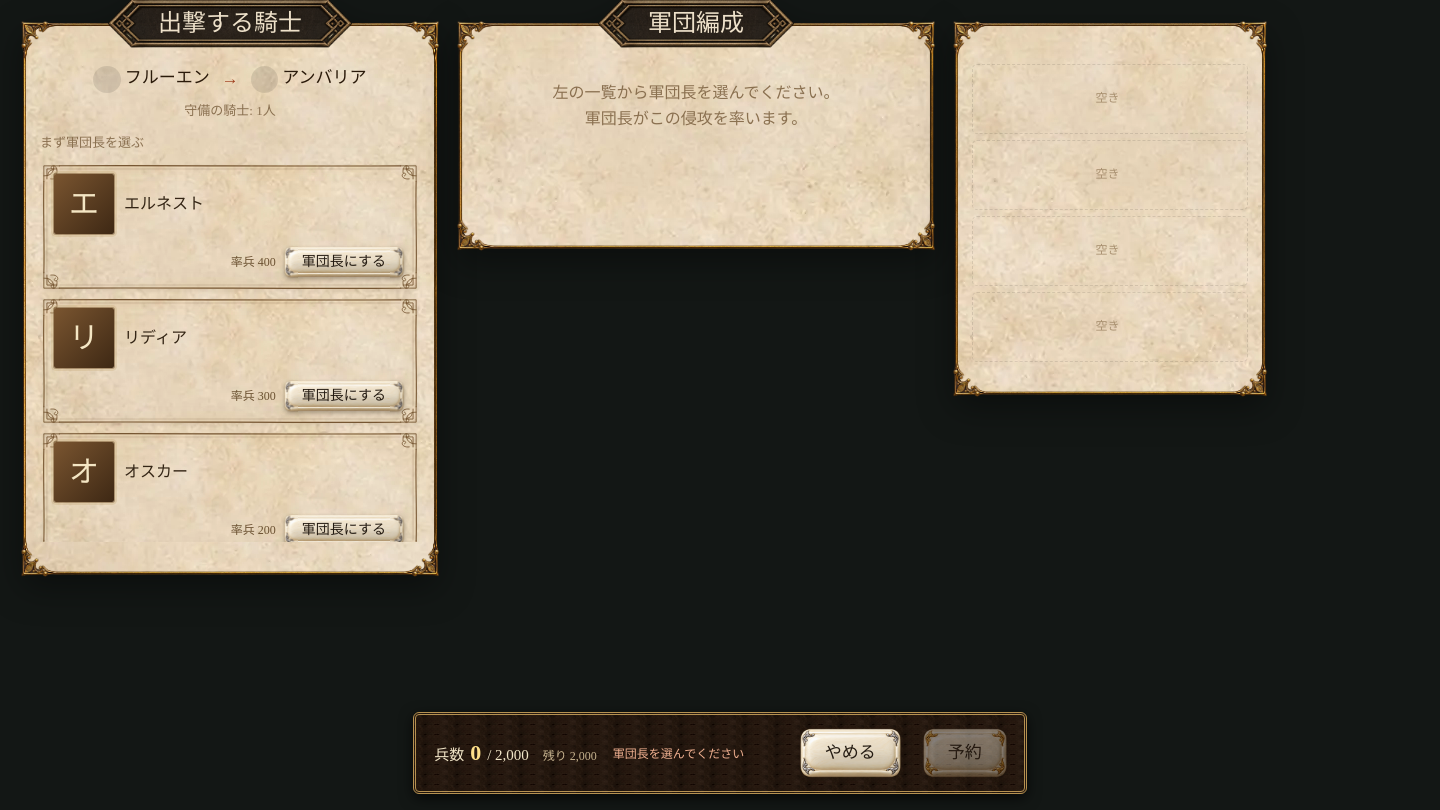
Test: InvasionScreen › pictures the units with their soldiers and morale, and the empty slots
Check: the list items read "空き", "空き", "空き", "空き", in this order, box [972,64,1248,134]; [972,140,1248,210]; [972,216,1248,286]; [972,292,1248,362]
Click the button with aria-label "エルネストを軍団長にする".
click(344, 262)  # box [282,244,406,280]
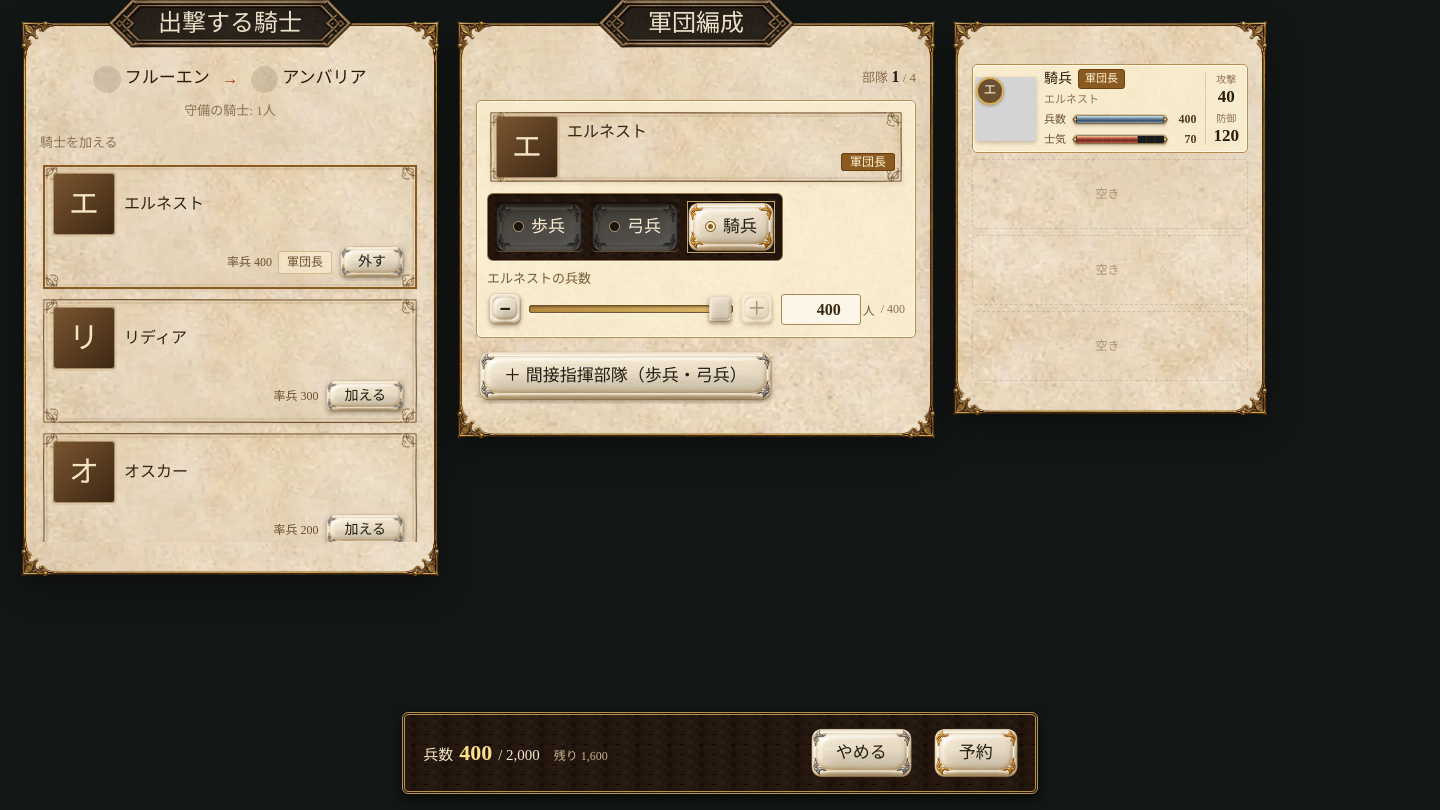
Click the button "＋ 間接指揮部隊（歩兵・弓兵）".
click(625, 376)  # box [476,348,775,404]
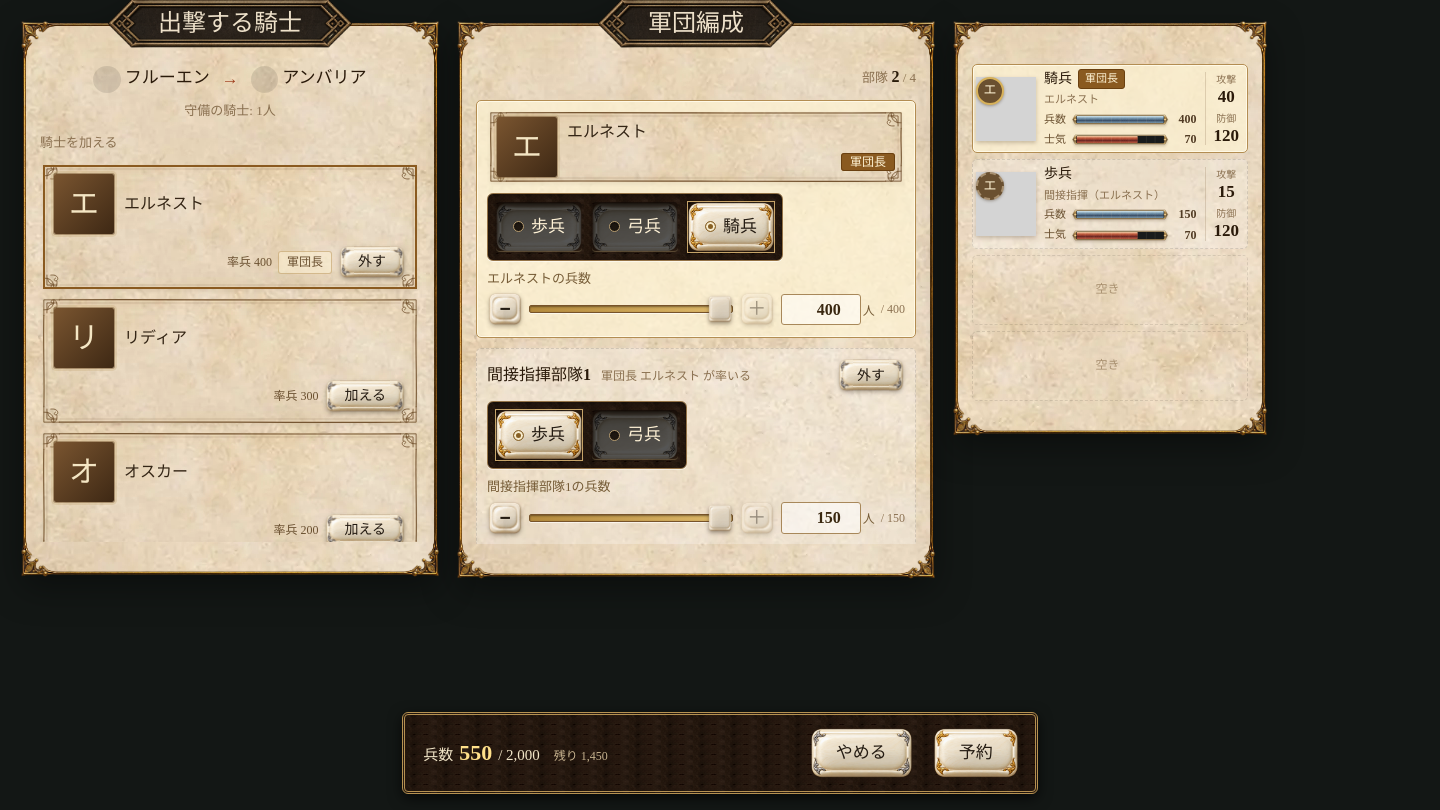
Check: the 1st text "騎兵" is shown, box [1044,68,1072,90]
Check: the 1st text with class "norden-invasion-slot-face" reads "エ", box [984,82,996,97]
Check: the text "40" is shown, box [1218,88,1235,107]
Replace the text in the number field named "エルネストの兵数（数値）" with "300" at (821, 309), box [781,294,861,325]
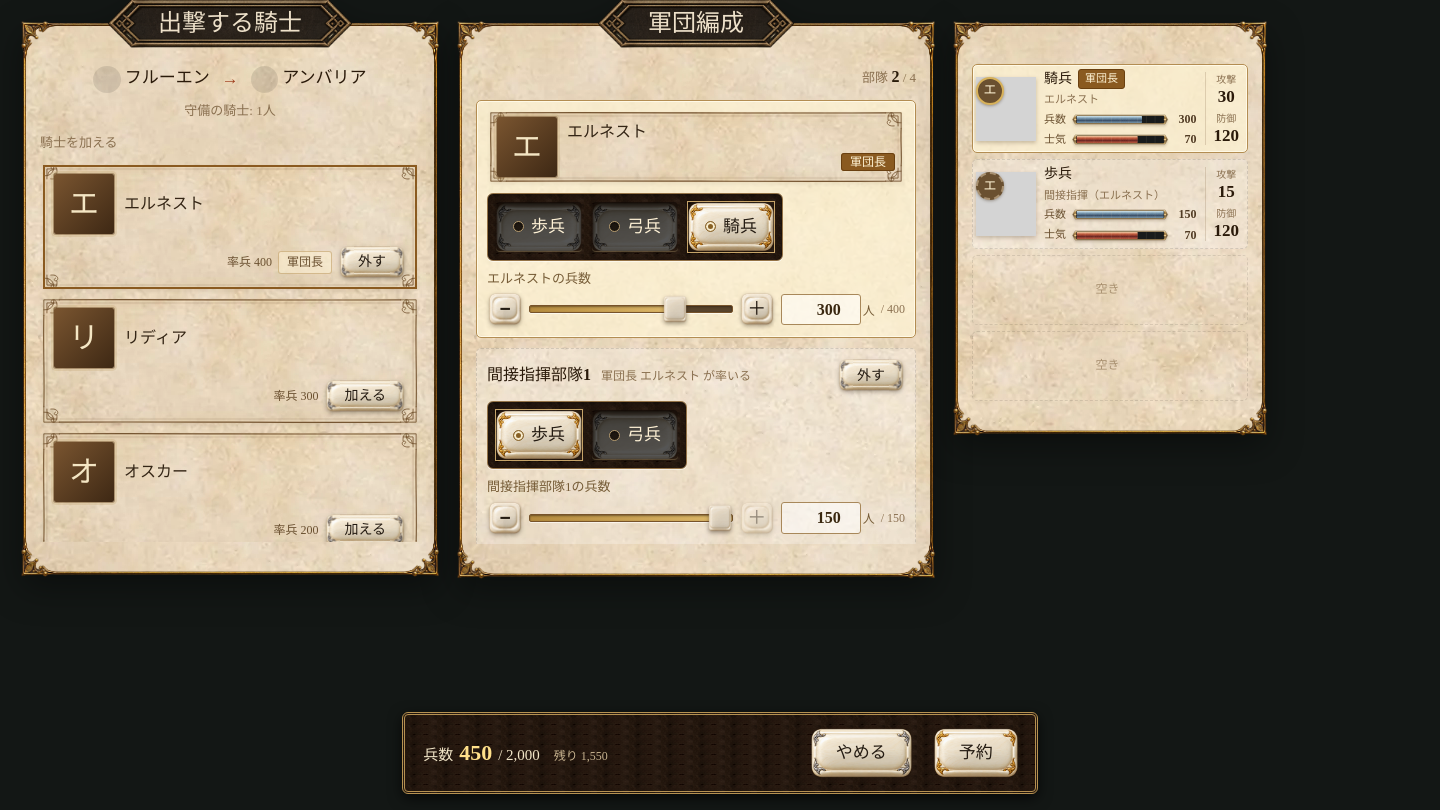
Check: the text "30" is shown, box [1218,88,1235,107]
